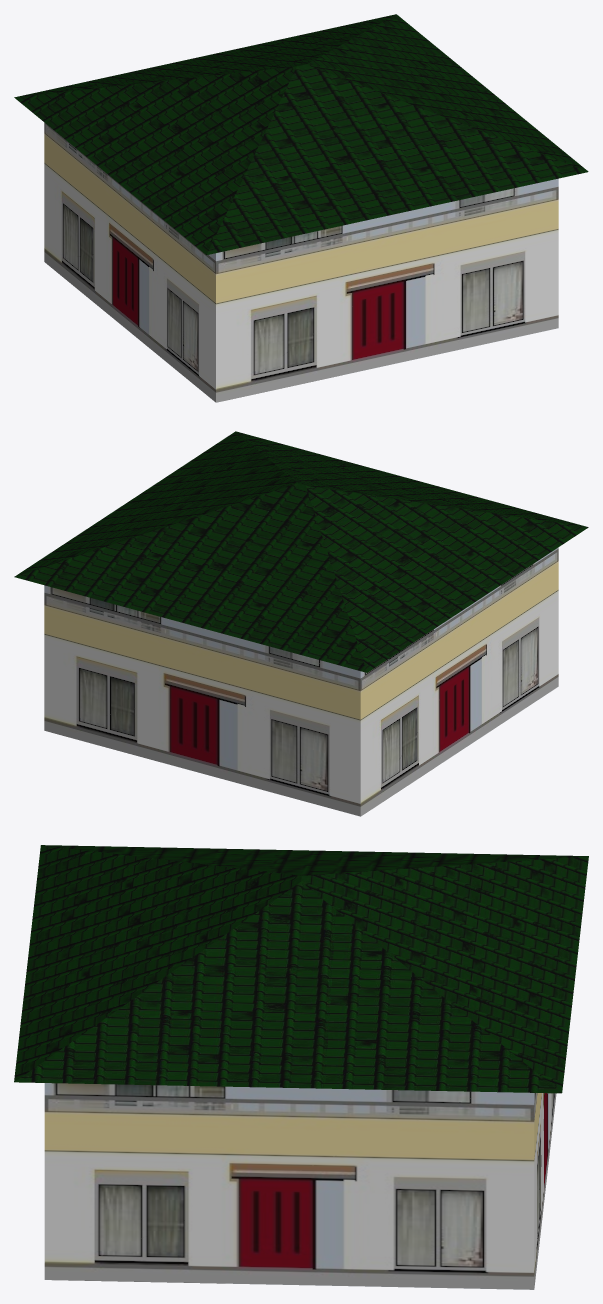
3 views of the same model, one above another, from view 1: azimuth 30°, elevation 25°; view 2: azimuth 150°, elevation 25°; view 3: azimuth 270°, elevation 25° (orthographic). The views are drawn at different scales.
Visible parts, largest first — view 1: CityEngineMaterial_13_m, CityEngineMaterial_15_m; view 2: CityEngineMaterial_15_m, CityEngineMaterial_13_m; view 3: CityEngineMaterial_13_m, CityEngineMaterial_15_m.
Boxes of the visible parts, bbox=[...] form: CityEngineMaterial_13_m: bbox=[14, 14, 588, 255]; CityEngineMaterial_15_m: bbox=[44, 122, 558, 402]; CityEngineMaterial_15_m: bbox=[44, 547, 558, 816]; CityEngineMaterial_13_m: bbox=[14, 431, 588, 672]; CityEngineMaterial_13_m: bbox=[14, 845, 588, 1093]; CityEngineMaterial_15_m: bbox=[44, 1083, 556, 1289].
Bounding box in the file's own units: 18.88 × 10.63 × 18.47.
